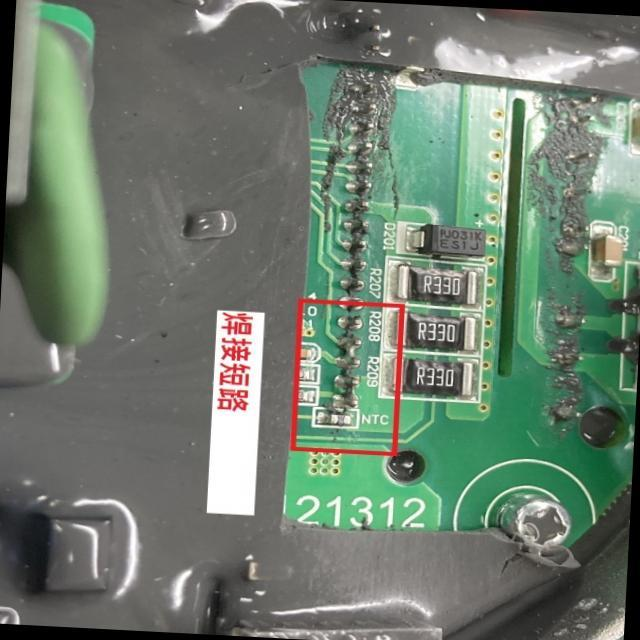Short_circuit: (330, 371, 360, 413), (336, 330, 361, 369)
